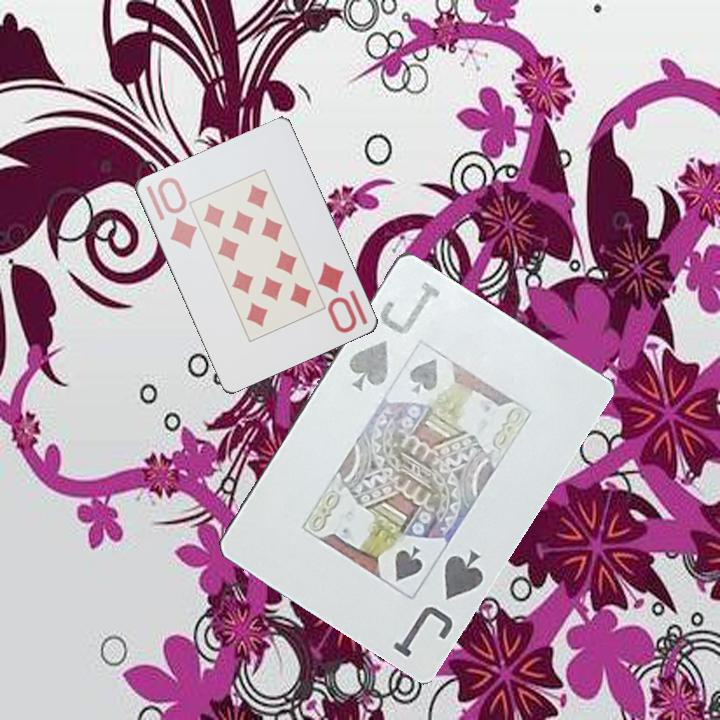Js: (344, 274, 443, 393), (389, 545, 487, 660)
Td: (142, 173, 198, 252), (314, 258, 370, 336)
